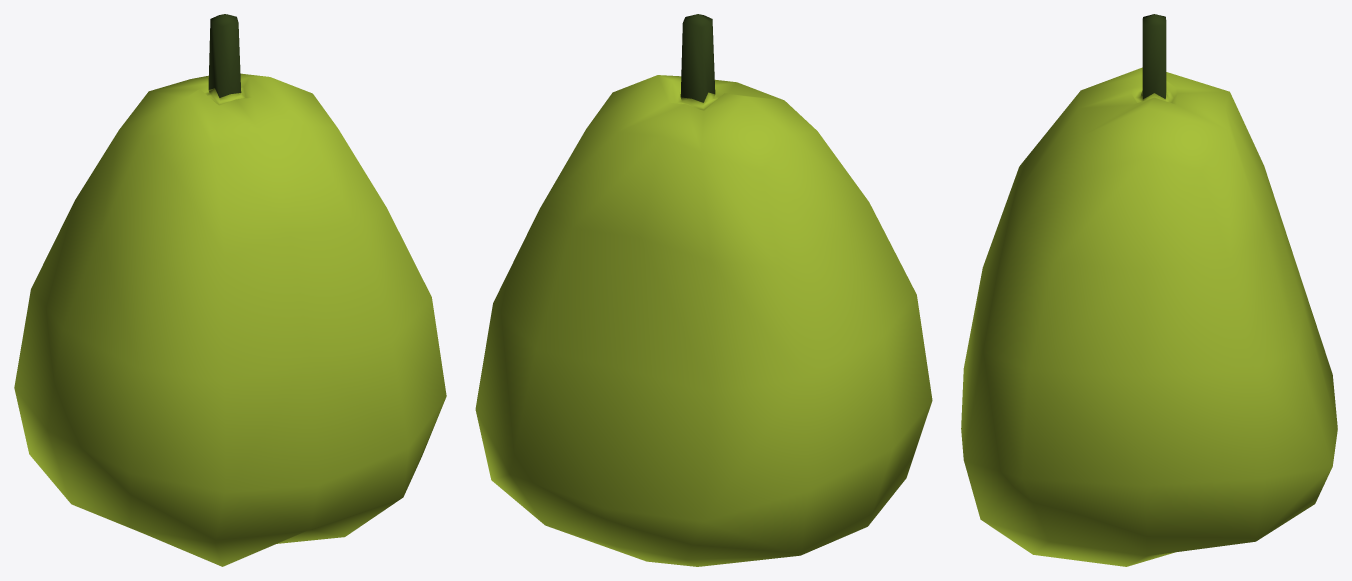
The model's file is Pera.fbx.
3 renders of one model, left to right at view 1: azimuth 30°, elevation 25°; view 2: azimuth 150°, elevation 25°; view 3: azimuth 270°, elevation 25°, orthographic. The views are drawn at different scales.
Visible parts, largest first — view 1: Cube; view 2: Cube; view 3: Cube.
Part boxes in pixels (<box>): Cube: <box>14,14,446,566</box>; Cube: <box>475,14,932,566</box>; Cube: <box>961,14,1337,566</box>.
Bounding box in the file's own units: 219 × 290 × 191.
